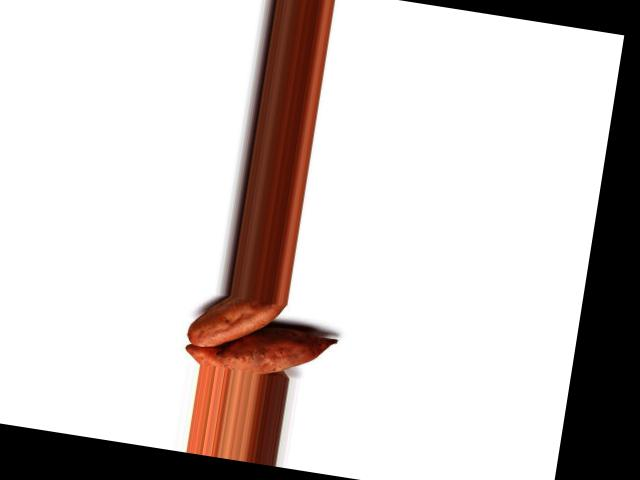sweet_potato: (185, 289, 292, 358)
